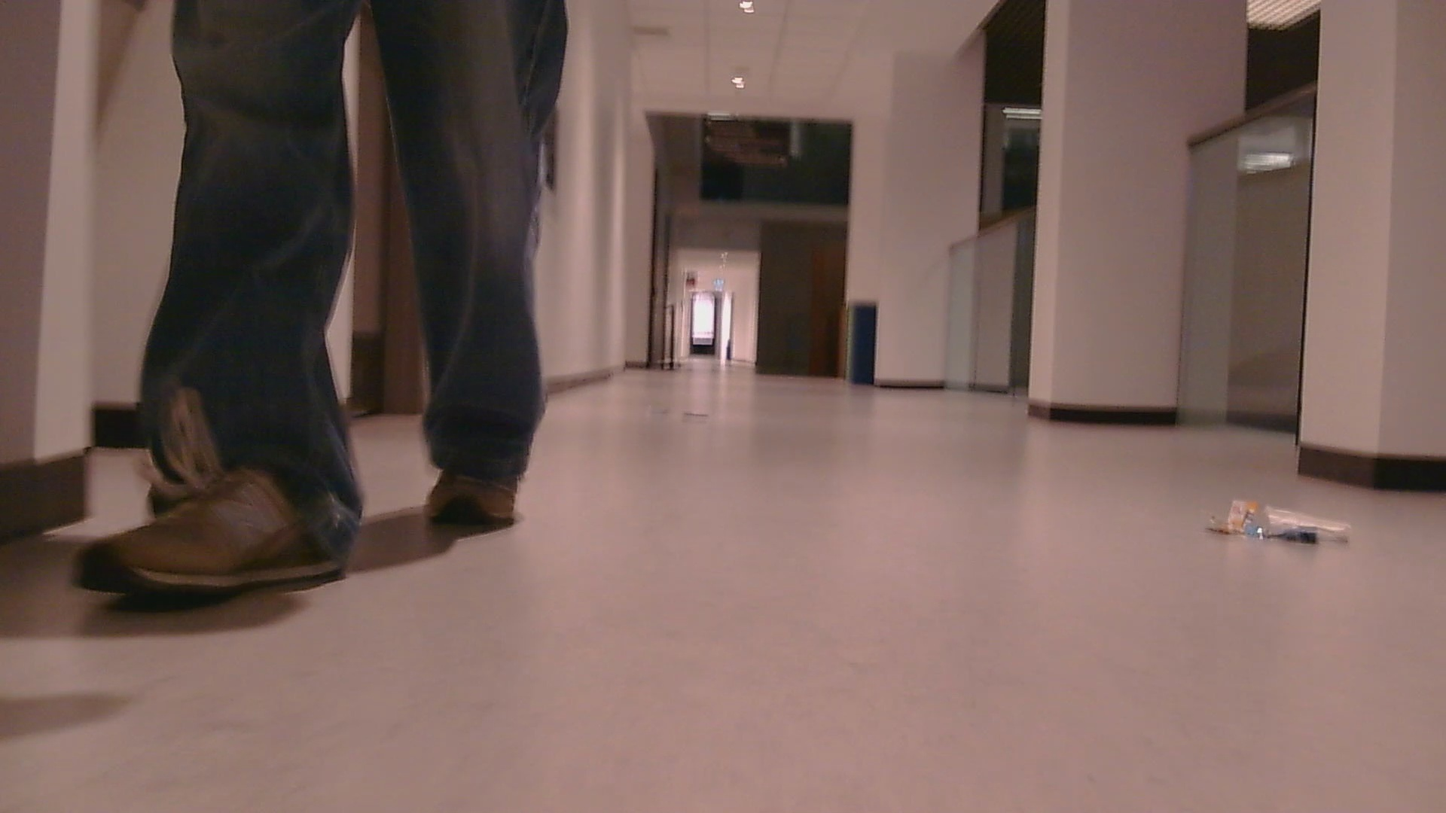carton: (1197, 485, 1367, 567), (681, 402, 713, 433), (646, 403, 673, 428)
